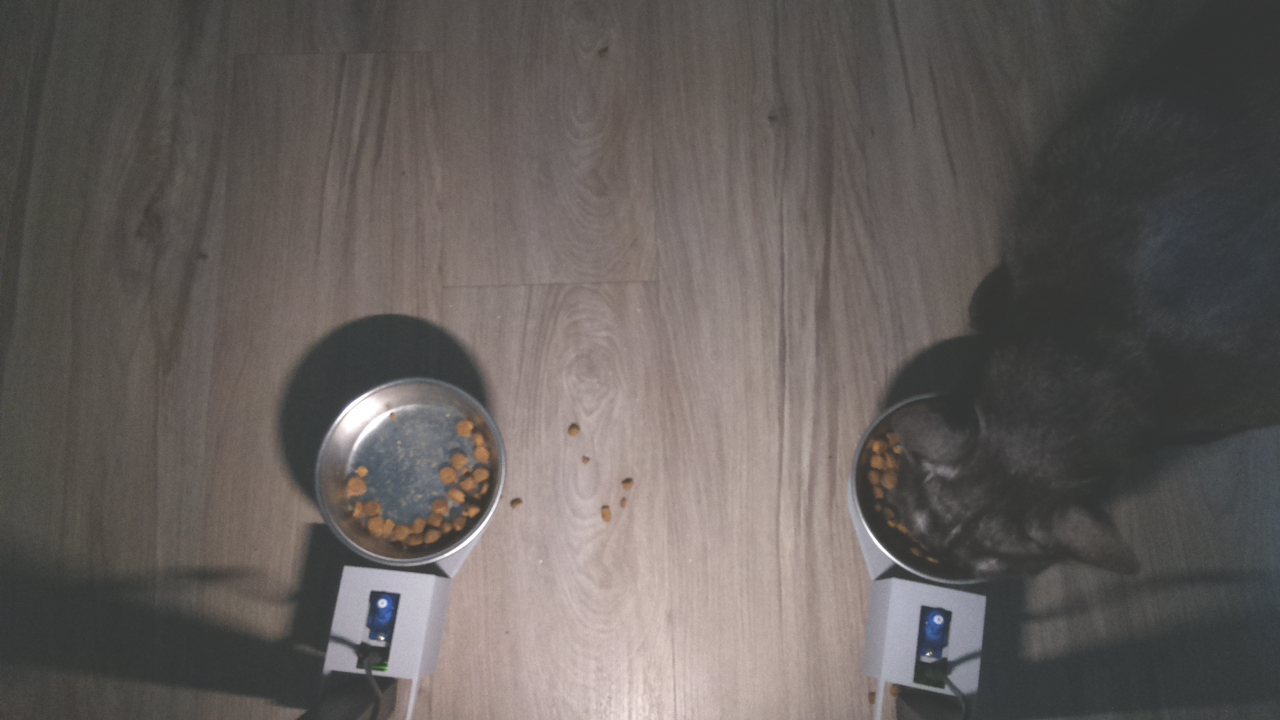open_bowl: (309, 373, 511, 568)
saki_eating: (845, 354, 1173, 596)
